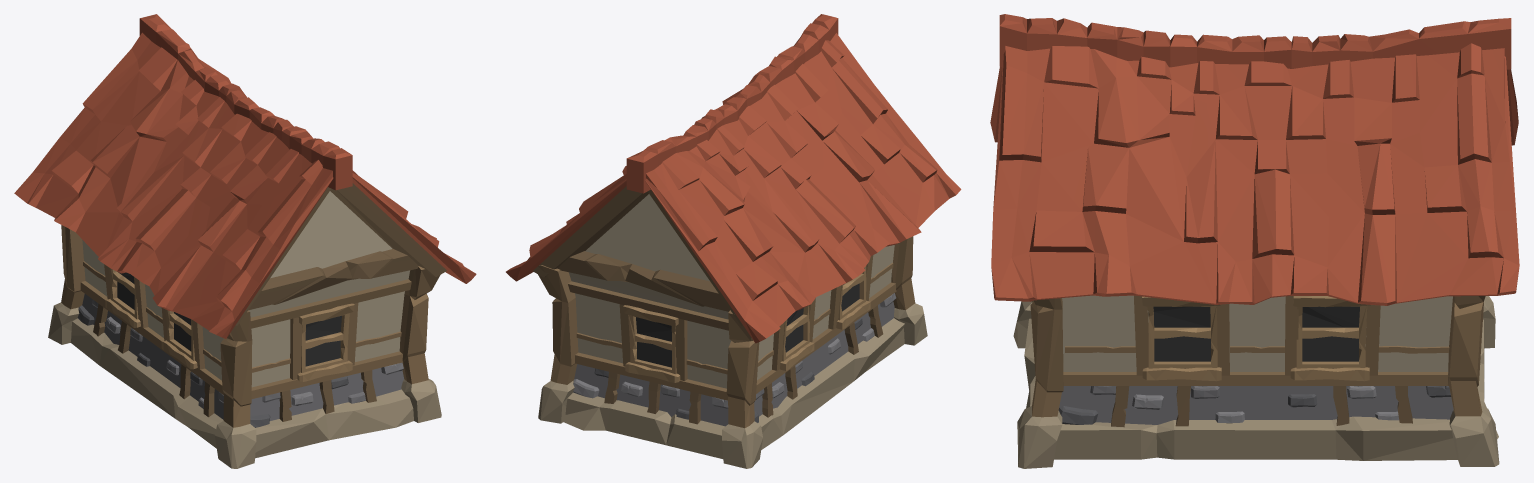
File: SM_Bld_House_Room_01.gltf
3 renders of one model, left to right at view 1: azimuth 30°, elevation 25°; view 2: azimuth 150°, elevation 25°; view 3: azimuth 270°, elevation 25°, orthographic. The views are drawn at different scales.
Visible parts, largest first — view 1: SM_Bld_House_Room_01; view 2: SM_Bld_House_Room_01; view 3: SM_Bld_House_Room_01.
Boxes of the visible parts, <box> form: SM_Bld_House_Room_01: <box>14,14,476,468</box>; SM_Bld_House_Room_01: <box>506,14,961,468</box>; SM_Bld_House_Room_01: <box>990,14,1519,468</box>.
Size of the model in its own units: 5.04 by 5.09 by 6.38.
1 material, 1 textured.
